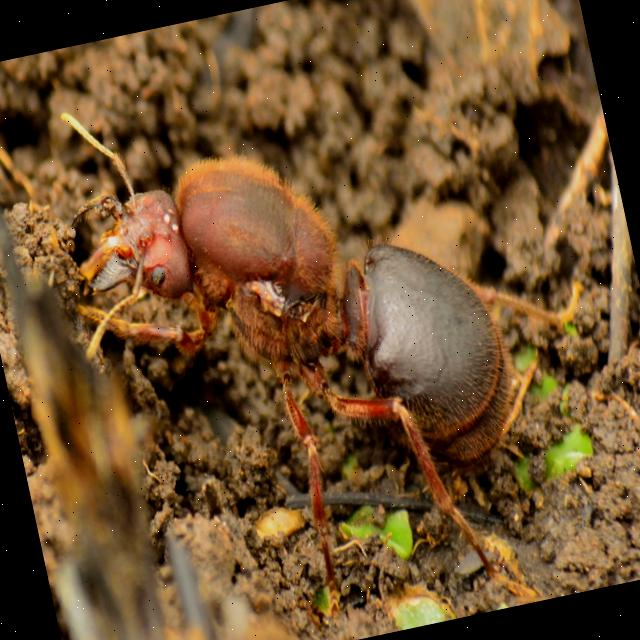Alive-Female-Dealate: (31, 27, 548, 640)
